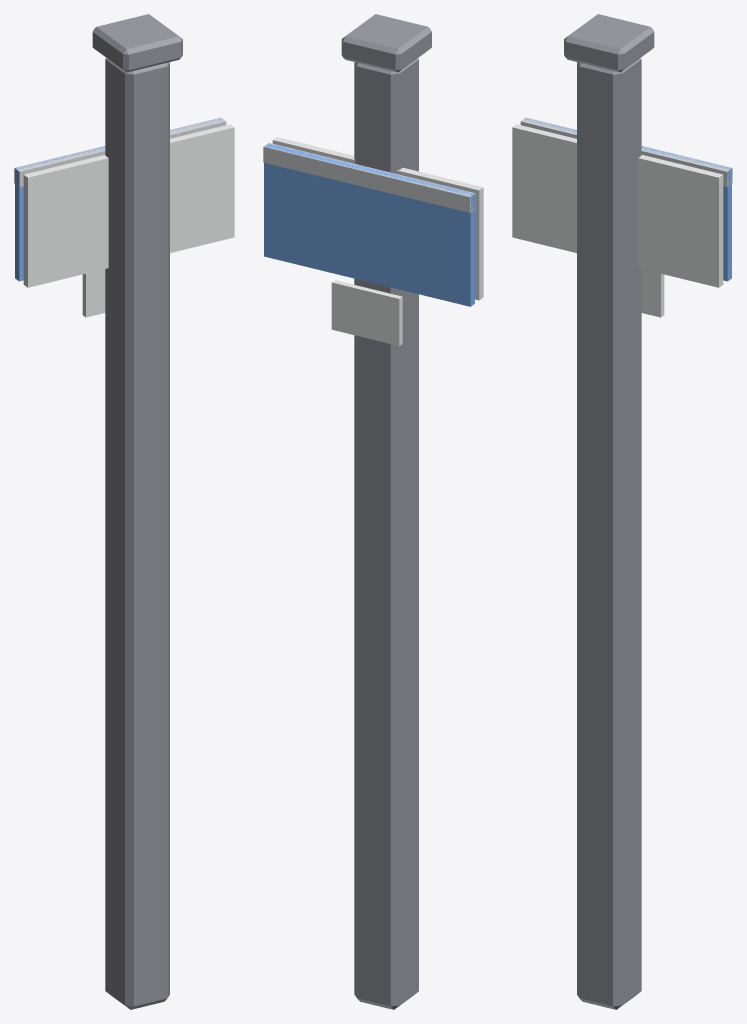
The model's file is street_pole_01.glb.
The picture shows the model from 3 angles, left to right: view 1: azimuth 30°, elevation 25°; view 2: azimuth 150°, elevation 25°; view 3: azimuth 330°, elevation 25°; orthographic projection.
Visible parts, largest first — view 1: street_pole_01; view 2: street_pole_01; view 3: street_pole_01.
Part boxes in pixels (box(x1,y1,x2,y2)): street_pole_01: box(14, 14, 234, 1009); street_pole_01: box(263, 14, 483, 1009); street_pole_01: box(512, 14, 732, 1009).
Size of the model in its own units: 0.55 by 2.46 by 0.1775.
